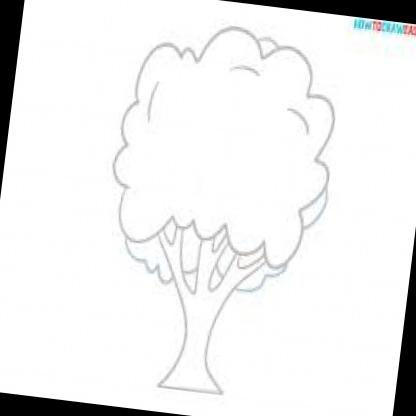branch_cut: (146, 216, 270, 314)
crown_cloud: (101, 11, 350, 302)
trunk_reflex: (170, 310, 221, 368)
